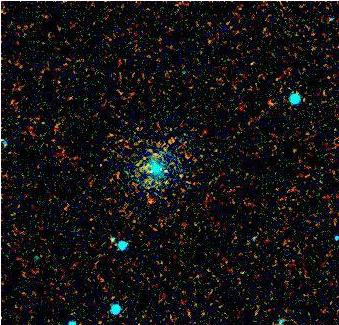star: (257, 92, 287, 122)
